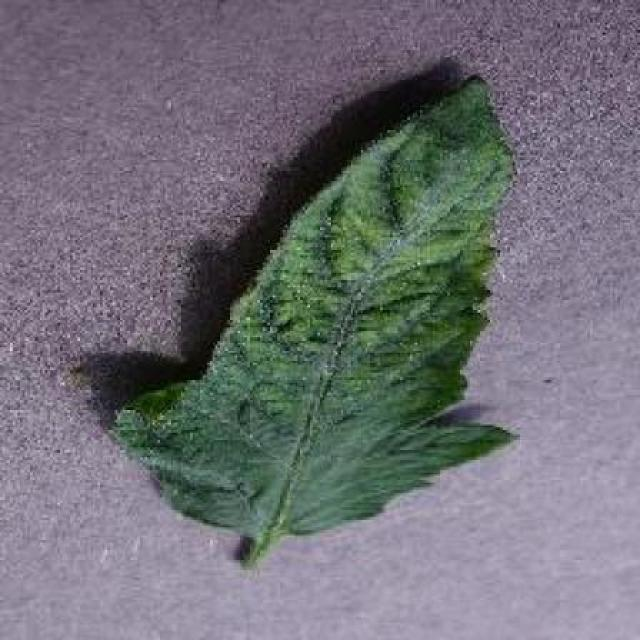Mosaic Virus: (114, 70, 524, 536)
